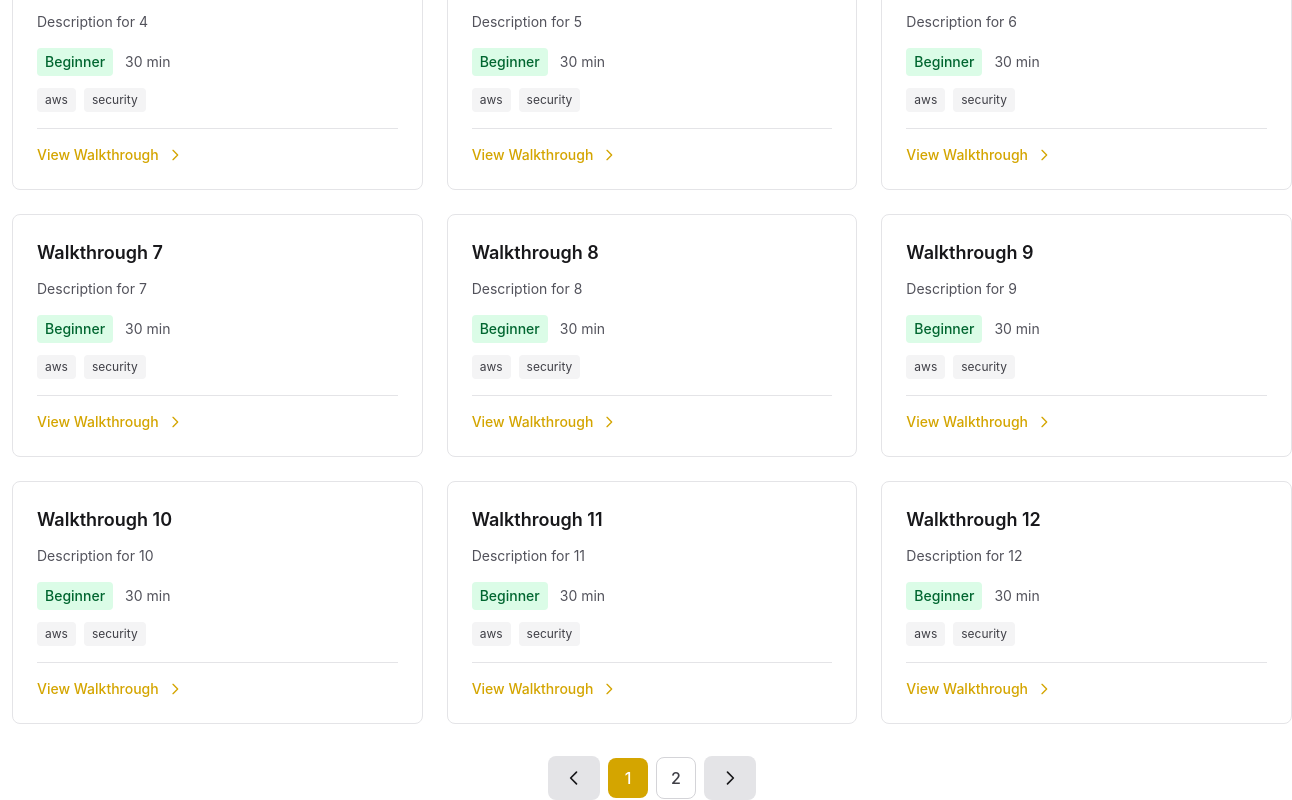
it: paginates when there are more than 12 walkthroughs
The width and height of the screenshot is (1292, 800).
(page scrolled)
Check: the text "Walkthrough 13" is not shown
Step 1. Click the button named "go to page 2" → (676, 778), box 656,757 -> 696,799
(page scrolled)
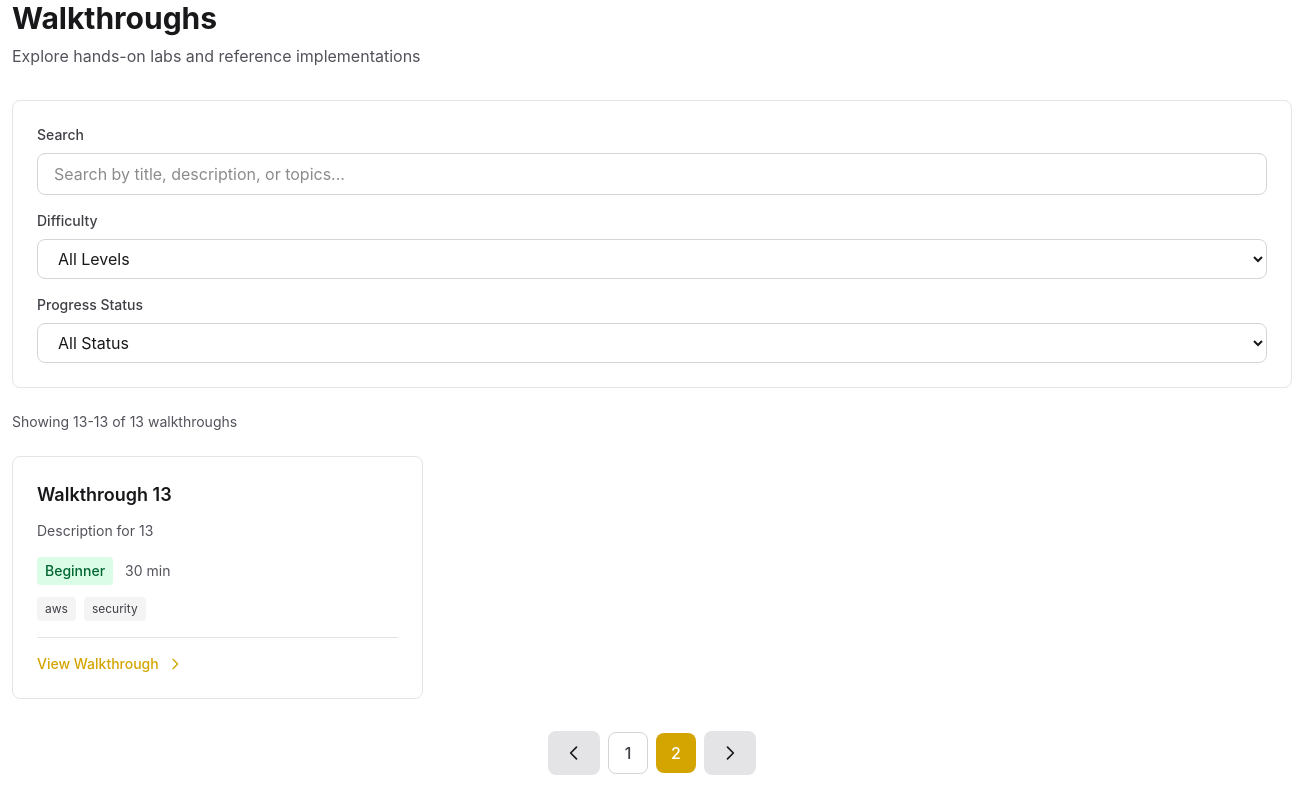
Check: the heading "Walkthrough 13" is shown, box 37,484 -> 172,505
